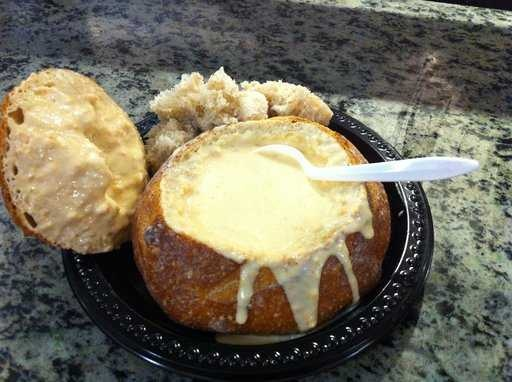soup: (115, 100, 390, 288)
